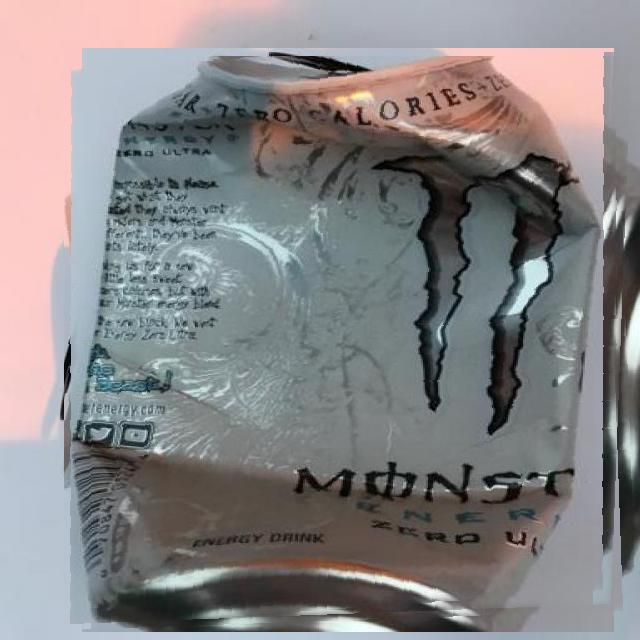recyclable: (64, 56, 632, 625)
